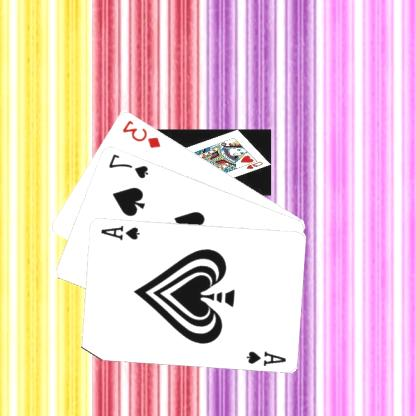3D: (121, 117, 164, 149)
7S: (108, 150, 151, 180)
AS: (245, 348, 289, 367), (100, 222, 142, 241)
